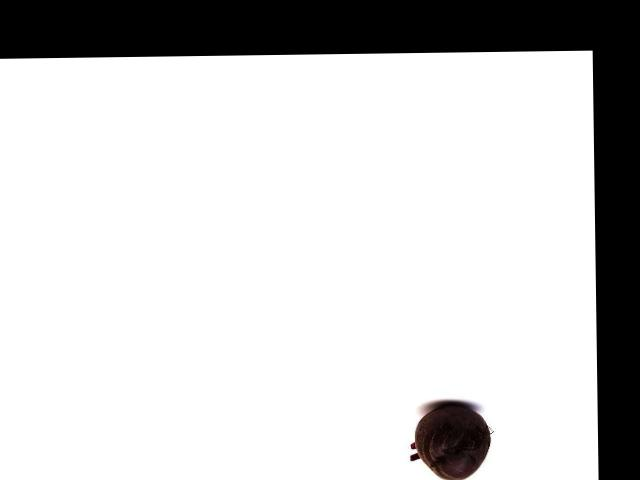beet: (410, 402, 491, 480)
